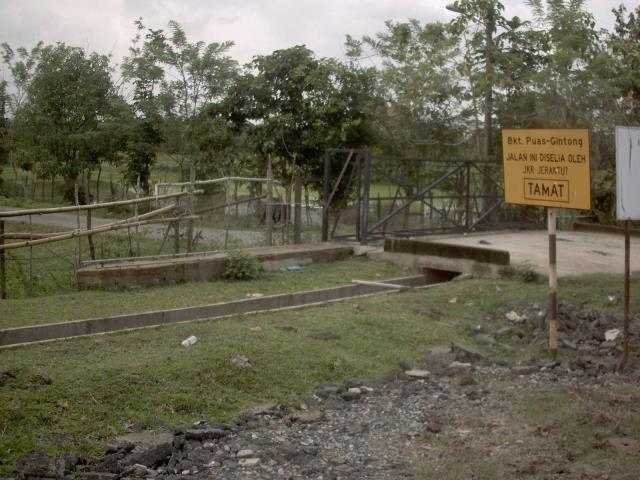ads_sign: (496, 121, 597, 217)
